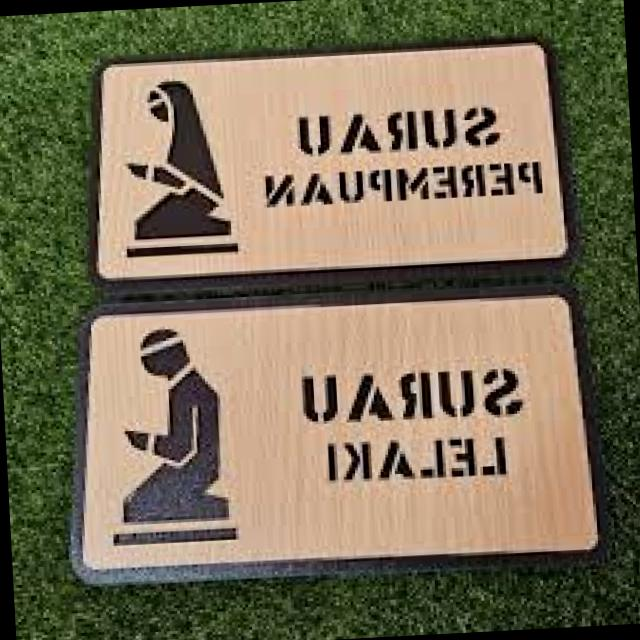surau_icon: (75, 70, 260, 566)
